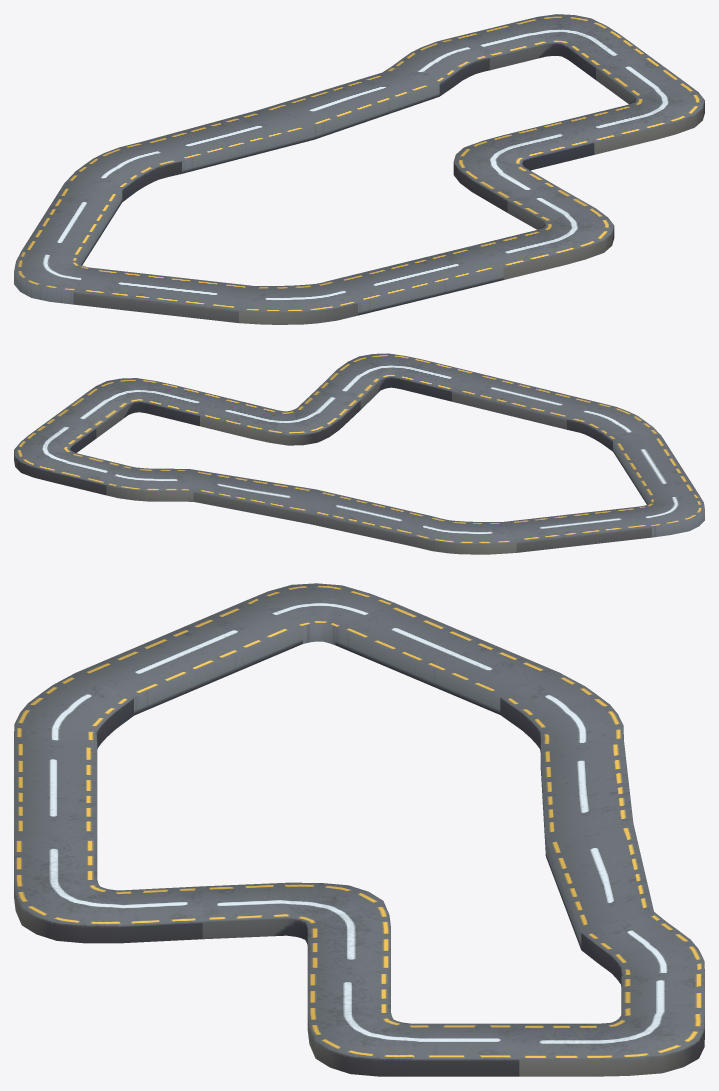
The model's file is road2.glb.
The picture shows the model from 3 angles, top to bottom: view 1: azimuth 30°, elevation 25°; view 2: azimuth 150°, elevation 25°; view 3: azimuth 270°, elevation 25°; orthographic projection. The views are drawn at different scales.
Visible parts, largest first — view 1: Rodja_road2; view 2: Rodja_road2; view 3: Rodja_road2.
Part boxes in pixels (box(x1,y1,x2,y2)): Rodja_road2: box(14, 14, 704, 324); Rodja_road2: box(14, 353, 704, 554); Rodja_road2: box(14, 583, 704, 1076).
Size of the model in its own units: 14.94 by 0.2588 by 9.17.
1 material, 1 textured.
